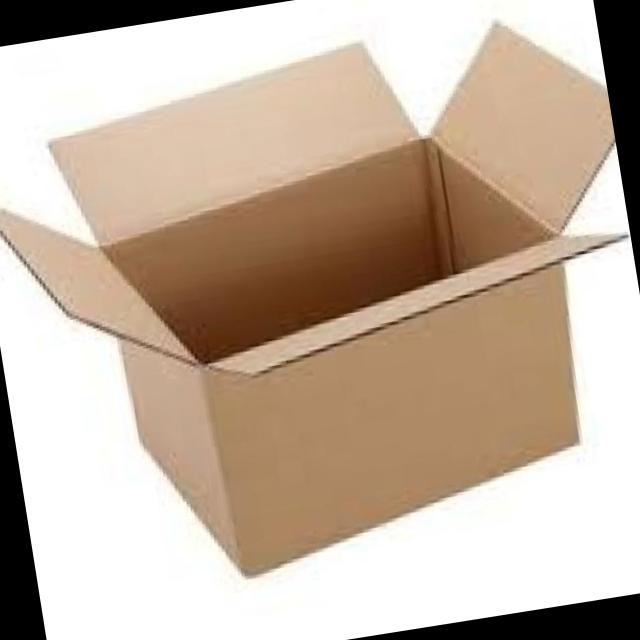cardboard paper: (0, 23, 615, 572), (431, 22, 615, 268)
